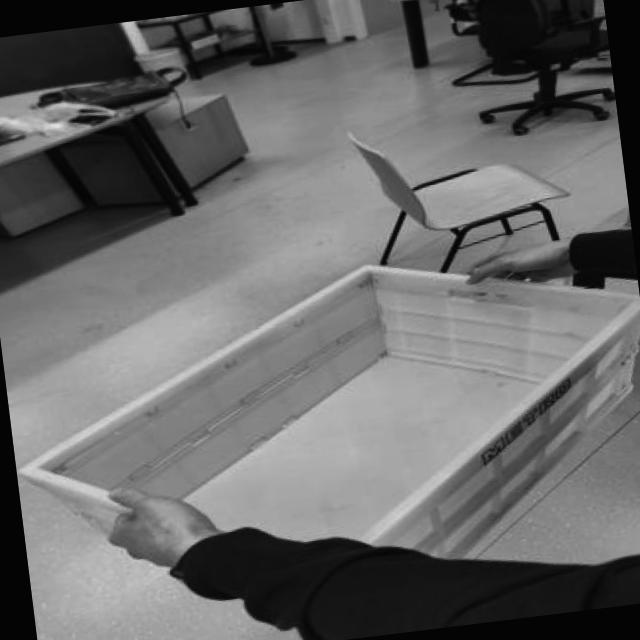box: (0, 225, 640, 622)
